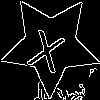X: (25, 20, 70, 74)
